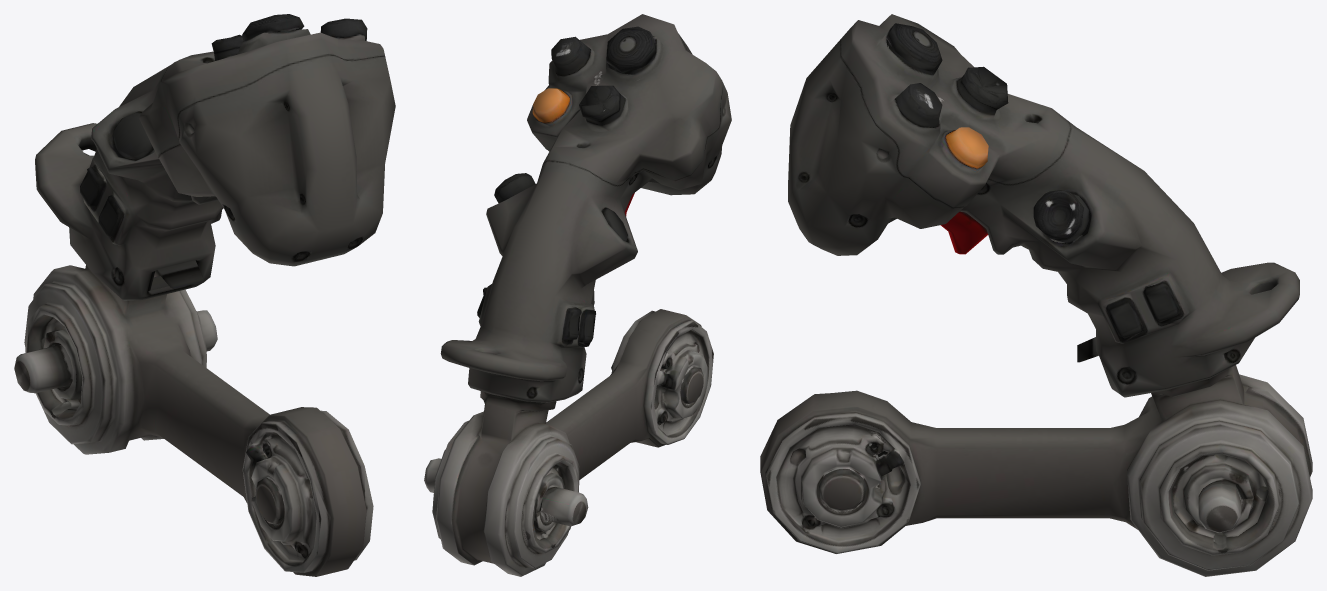
File: throttle_remesh.glb
3 views of the same model, side by side, from view 1: azimuth 30°, elevation 25°; view 2: azimuth 150°, elevation 25°; view 3: azimuth 270°, elevation 25° (orthographic). The views are drawn at different scales.
Visible parts, largest first — view 1: tripo_node_0d598e60-9b2f-4741-a513-0e196; view 2: tripo_node_0d598e60-9b2f-4741-a513-0e196; view 3: tripo_node_0d598e60-9b2f-4741-a513-0e196.
Boxes of the visible parts, bbox=[...] form: tripo_node_0d598e60-9b2f-4741-a513-0e196: bbox=[14, 14, 395, 576]; tripo_node_0d598e60-9b2f-4741-a513-0e196: bbox=[424, 14, 731, 576]; tripo_node_0d598e60-9b2f-4741-a513-0e196: bbox=[760, 14, 1312, 576].
Bounding box in the file's own units: 0.3973 × 0.9941 × 0.9374.
1 material, 1 textured.
